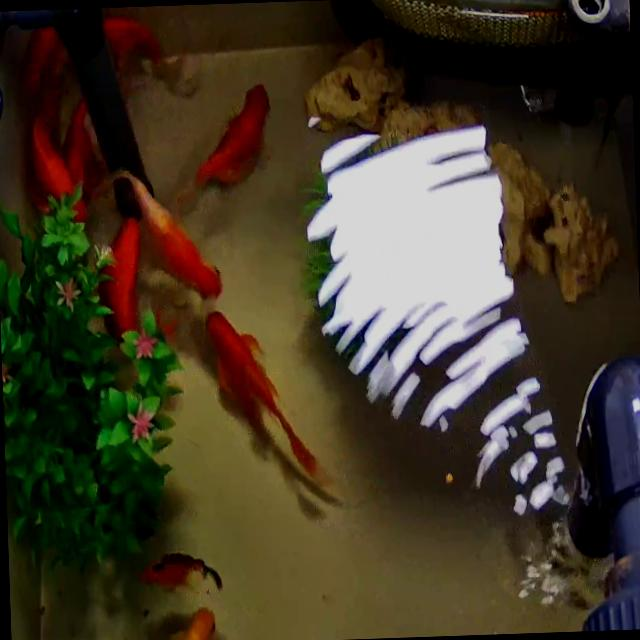fish: (190, 292, 338, 499), (92, 162, 242, 294), (168, 77, 287, 209), (0, 80, 79, 199), (86, 8, 207, 66), (90, 212, 148, 326), (51, 95, 95, 218), (128, 544, 231, 590), (122, 599, 229, 640)
